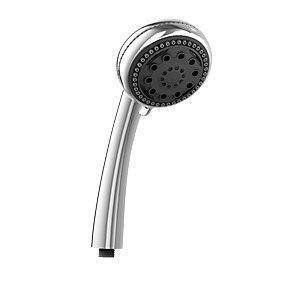Ducha: (76, 18, 223, 256)
